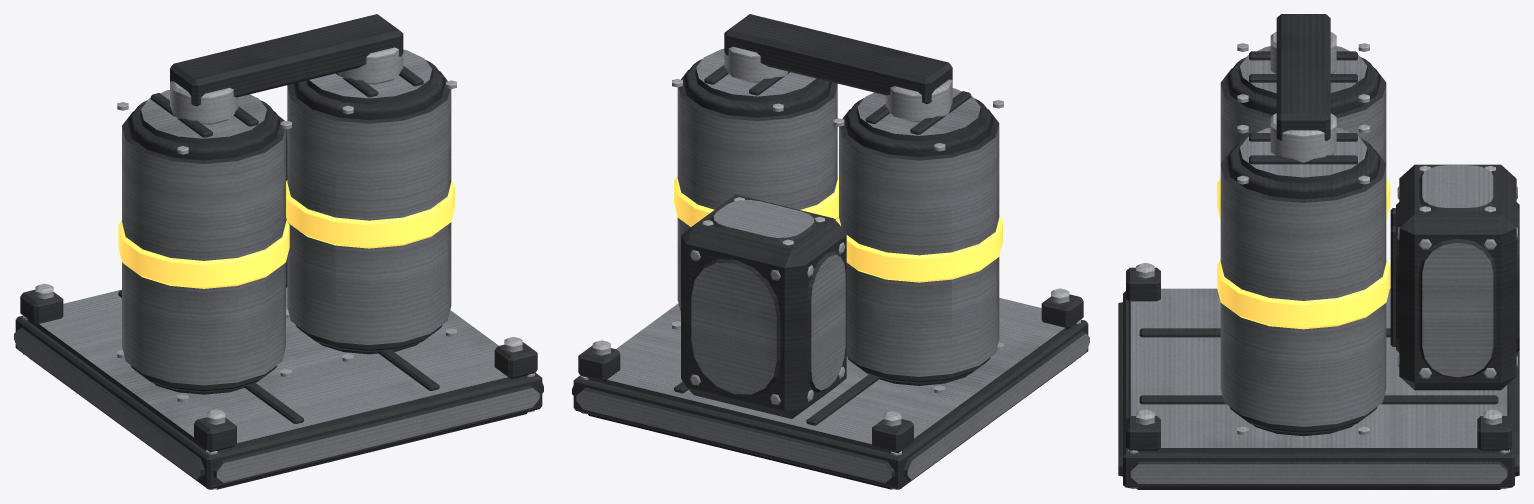
The model's file is R4X_Battery.glb.
3 renders of one model, left to right at view 1: azimuth 30°, elevation 25°; view 2: azimuth 150°, elevation 25°; view 3: azimuth 270°, elevation 25°, orthographic. The views are drawn at different scales.
Visible parts, largest first — view 1: R4X_Battery_Body; view 2: R4X_Battery_Body; view 3: R4X_Battery_Body.
Boxes of the visible parts, left/top/right/bottom form: R4X_Battery_Body: left=14, top=14, right=543, bottom=489; R4X_Battery_Body: left=572, top=14, right=1089, bottom=489; R4X_Battery_Body: left=1118, top=14, right=1519, bottom=489.
Size of the model in its own units: 0.52 by 0.495 by 0.52.
Materials: 4 (3 with a texture image).
